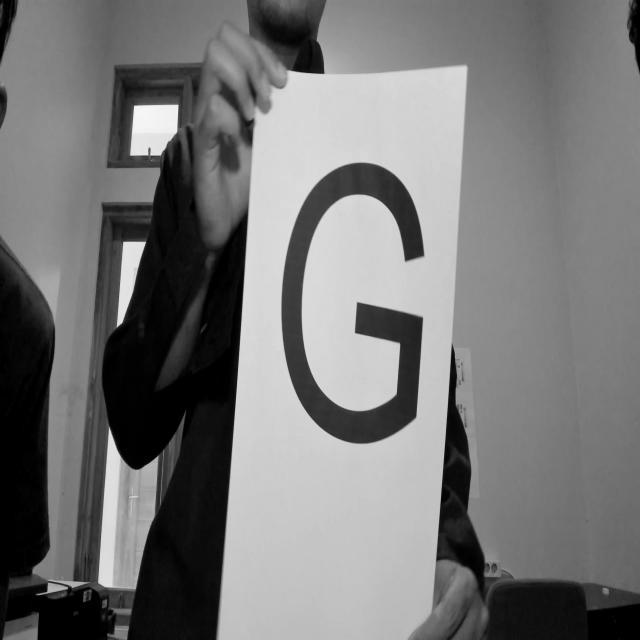g: (268, 143, 441, 512)
